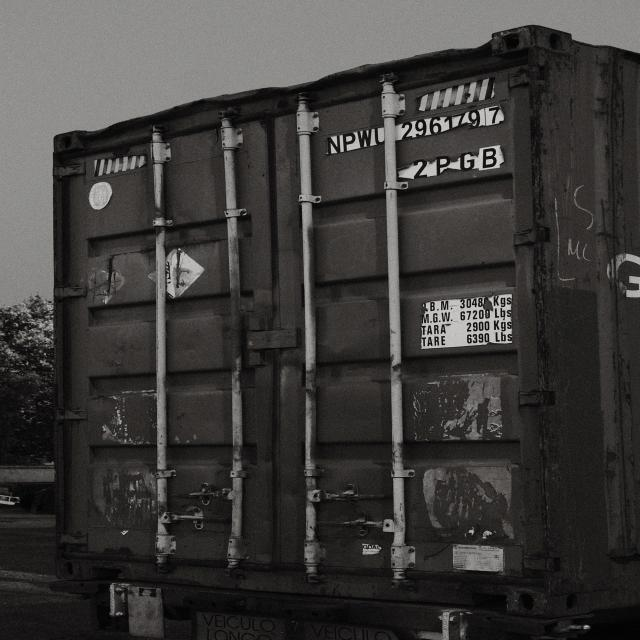ISO: (402, 150, 506, 187)
container_number: (323, 115, 530, 146)
